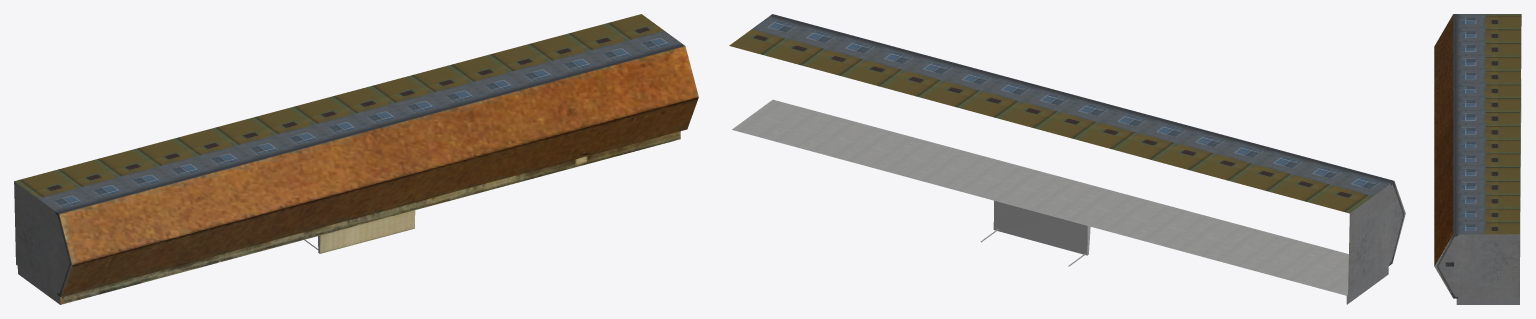
3 renders of one model, left to right at view 1: azimuth 30°, elevation 25°; view 2: azimuth 150°, elevation 25°; view 3: azimuth 270°, elevation 25°, orthographic. The views are drawn at different scales.
Visible parts, largest first — view 1: Group_MatrixTransform_i96030_Geometry_6, Group_MatrixTransform_i96030_Geometry_1, Group_MatrixTransform_i96030_Geometry_5, Group_MatrixTransform_i96030_Geometry_2, Group_MatrixTransform_i96030_Geometry_4; view 2: Group_MatrixTransform_i96030_Geometry_1, Group_MatrixTransform_i96030_Geometry_9, Group_MatrixTransform_i96030_Geometry_2, Group_MatrixTransform_i96030_Geometry_11; view 3: Group_MatrixTransform_i96030_Geometry_1, Group_MatrixTransform_i96030_Geometry_2, Group_MatrixTransform_i96030_Geometry_6, Group_MatrixTransform_i96030_Geometry_10, Group_MatrixTransform_i96030_Geometry_9.
Part boxes in pixels (bbox=[...]): Group_MatrixTransform_i96030_Geometry_6: bbox=[59, 46, 698, 297]; Group_MatrixTransform_i96030_Geometry_1: bbox=[14, 14, 684, 213]; Group_MatrixTransform_i96030_Geometry_5: bbox=[60, 131, 680, 304]; Group_MatrixTransform_i96030_Geometry_2: bbox=[14, 181, 72, 297]; Group_MatrixTransform_i96030_Geometry_4: bbox=[320, 210, 415, 253]; Group_MatrixTransform_i96030_Geometry_1: bbox=[729, 14, 1393, 213]; Group_MatrixTransform_i96030_Geometry_9: bbox=[732, 99, 1348, 295]; Group_MatrixTransform_i96030_Geometry_2: bbox=[1348, 181, 1405, 295]; Group_MatrixTransform_i96030_Geometry_11: bbox=[993, 200, 1090, 255]; Group_MatrixTransform_i96030_Geometry_1: bbox=[1453, 14, 1521, 234]; Group_MatrixTransform_i96030_Geometry_2: bbox=[1434, 234, 1519, 298]; Group_MatrixTransform_i96030_Geometry_6: bbox=[1434, 14, 1453, 266]; Group_MatrixTransform_i96030_Geometry_10: bbox=[1456, 298, 1519, 304]; Group_MatrixTransform_i96030_Geometry_9: bbox=[1520, 79, 1521, 256].
Bounding box in the file's own units: 67.81 × 14.6 × 10.74.
12 materials, 12 textured.
